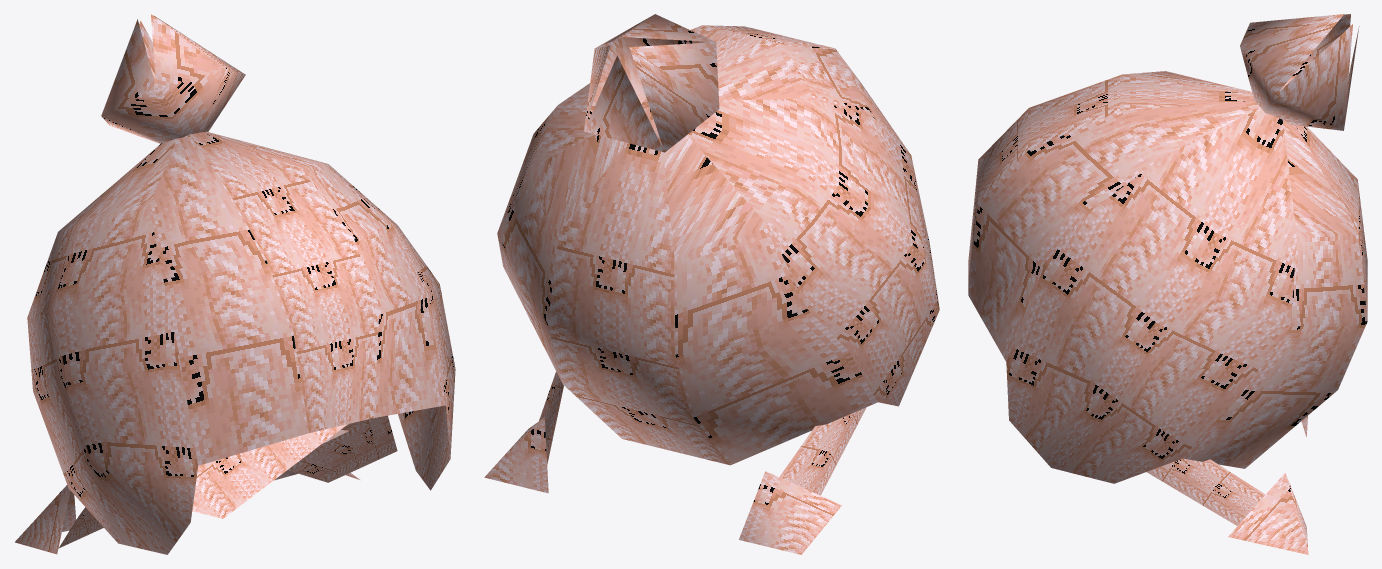
The model's file is code_head46.gltf.
The picture shows the model from 3 angles, left to right: view 1: azimuth 30°, elevation 25°; view 2: azimuth 150°, elevation 25°; view 3: azimuth 270°, elevation 25°; orthographic projection. The views are drawn at different scales.
Parts seen in each view (by area): view 1: code_head46; view 2: code_head46; view 3: code_head46.
Boxes of the visible parts, x1=… form: code_head46: x1=15, y1=14, x2=455, y2=554; code_head46: x1=484, y1=14, x2=939, y2=554; code_head46: x1=968, y1=14, x2=1367, y2=554.
Size of the model in its own units: 0.7329 by 0.8938 by 0.6902.
1 material, 1 textured.
